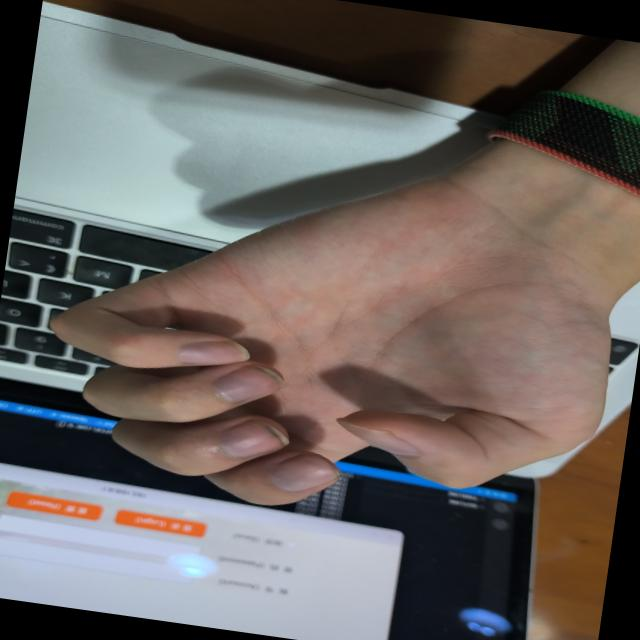Nail: (337, 418, 418, 455), (266, 453, 339, 490), (214, 419, 286, 456), (212, 364, 281, 402), (174, 340, 248, 363)
